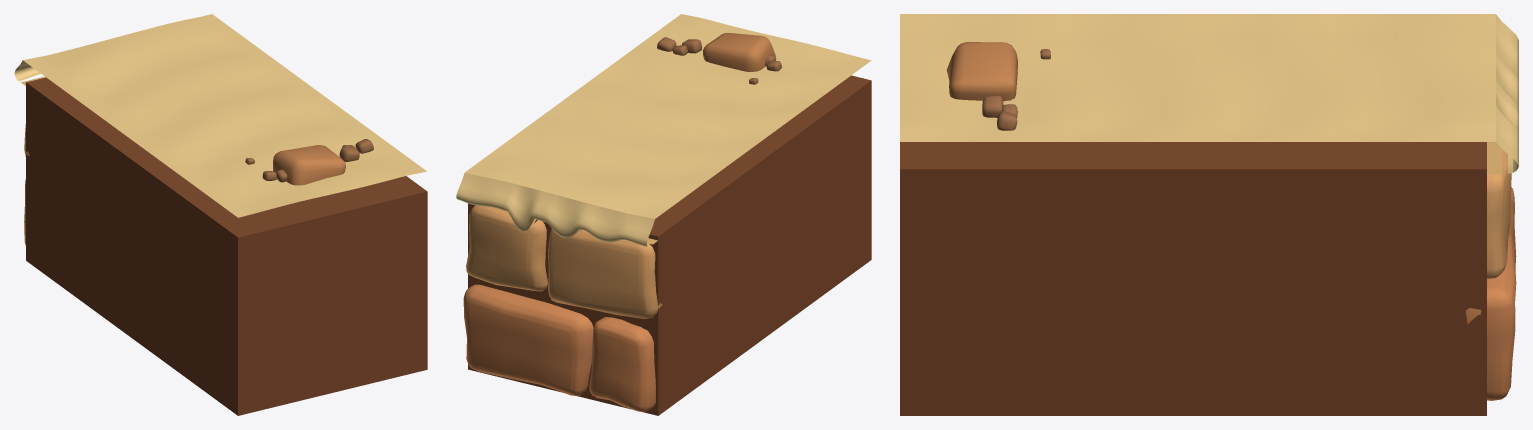
The model's file is SD_G11_Sandstone_Core_V3.fbx.
3 renders of one model, left to right at view 1: azimuth 30°, elevation 25°; view 2: azimuth 150°, elevation 25°; view 3: azimuth 270°, elevation 25°, orthographic. The views are drawn at different scales.
Visible parts, largest first — view 1: SD_G11_Sandstone_Core_V3; view 2: SD_G11_Sandstone_Core_V3; view 3: SD_G11_Sandstone_Core_V3.
Boxes of the visible parts, box(x1,y1,x2,y2) form: SD_G11_Sandstone_Core_V3: box(14, 14, 427, 415); SD_G11_Sandstone_Core_V3: box(456, 14, 871, 415); SD_G11_Sandstone_Core_V3: box(900, 14, 1518, 415).
Bounding box in the file's own units: 201 × 220 × 409.
